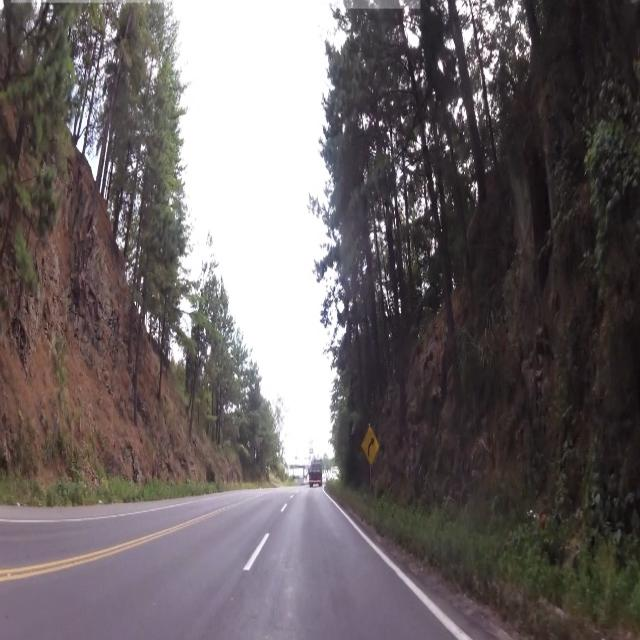A-2b: (361, 424, 381, 465)
